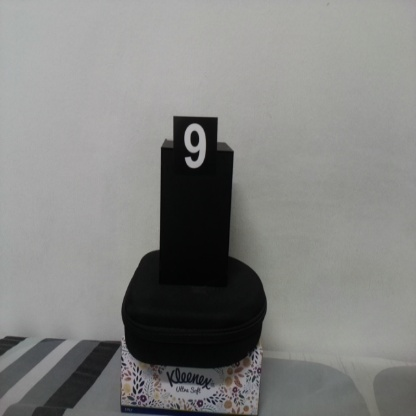id_9: (173, 117, 218, 182)
